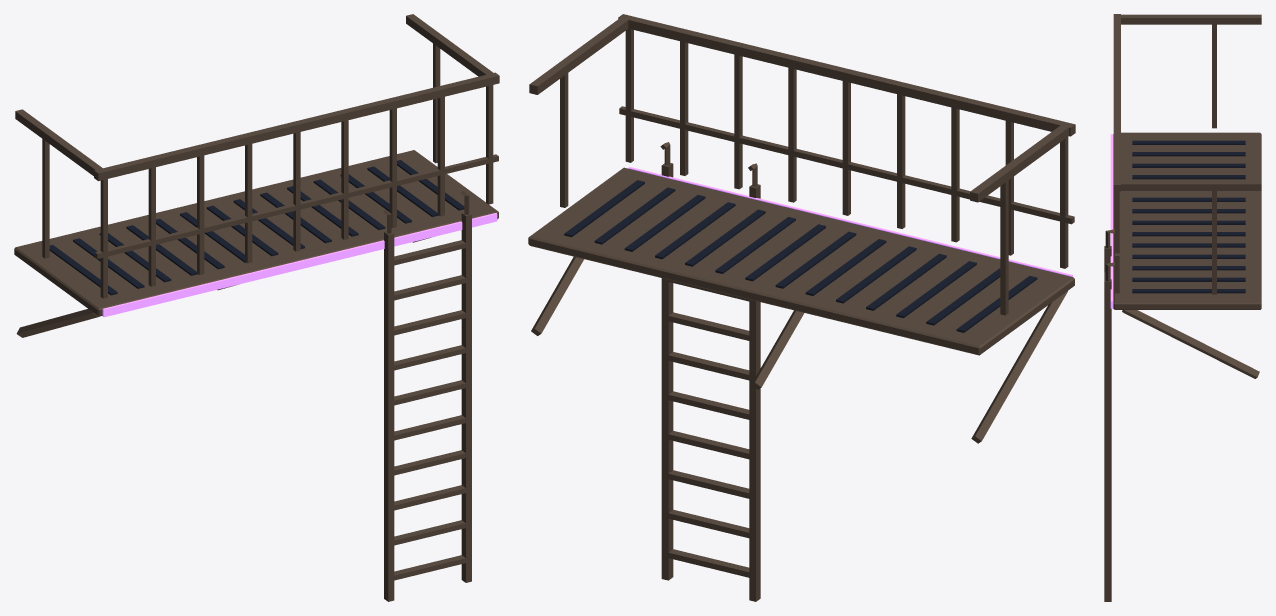
Rendered from city_fire_escape.glb.
The picture shows the model from 3 angles, left to right: view 1: azimuth 30°, elevation 25°; view 2: azimuth 150°, elevation 25°; view 3: azimuth 270°, elevation 25°; orthographic projection. The views are drawn at different scales.
Parts seen in each view (by area): view 1: balcony, top_rail, ladder_rail, ladder_rail.001, kick_plate, middle_rail, side_rail, side_rail.001, front_baluster.008, front_baluster.002, front_baluster.003, side_baluster (+18 smaller); view 2: balcony, top_rail, ladder_rail.001, middle_rail, ladder_rail, bracket, side_rail.001, side_rail, kick_plate, side_baluster.001, side_baluster, front_baluster.002 (+30 smaller); view 3: balcony, ladder_rail.001, side_rail, side_rail.001, top_rail, bracket.002, deck_slot, deck_slot.001, deck_slot.002, deck_slot.003, deck_slot.005, deck_slot.006 (+11 smaller).
Boxes of the visible parts, left/top/right/bottom form: balcony: left=14, top=150, right=498, bottom=316; top_rail: left=94, top=72, right=499, bottom=181; ladder_rail: left=384, top=231, right=394, bottom=601; ladder_rail.001: left=461, top=212, right=471, bottom=582; kick_plate: left=102, top=213, right=497, bottom=317; middle_rail: left=95, top=154, right=498, bottom=258; side_rail: left=15, top=109, right=104, bottom=175; side_rail.001: left=406, top=14, right=495, bottom=76; front_baluster.008: left=486, top=85, right=493, bottom=204; front_baluster.002: left=197, top=155, right=204, bottom=274; front_baluster.003: left=245, top=144, right=252, bottom=263; side_baluster: left=42, top=139, right=49, bottom=258; balcony: left=528, top=167, right=1074, bottom=355; top_rail: left=618, top=14, right=1075, bottom=136; ladder_rail.001: left=661, top=163, right=673, bottom=580; middle_rail: left=619, top=106, right=1074, bottom=224; ladder_rail: left=749, top=184, right=760, bottom=601; bracket: left=971, top=291, right=1067, bottom=443; side_rail.001: left=529, top=16, right=630, bottom=94; side_rail: left=970, top=123, right=1070, bottom=202; kick_plate: left=628, top=167, right=1072, bottom=276; side_baluster.001: left=560, top=73, right=568, bottom=207; side_baluster: left=1000, top=180, right=1008, bottom=315; front_baluster.002: left=951, top=107, right=959, bottom=242; balcony: left=1113, top=132, right=1261, bottom=309; ladder_rail.001: left=1104, top=279, right=1111, bottom=601; side_rail: left=1117, top=14, right=1261, bottom=24; side_rail.001: left=1117, top=181, right=1261, bottom=190; top_rail: left=1113, top=14, right=1120, bottom=191; bracket.002: left=1122, top=310, right=1259, bottom=378; deck_slot: left=1132, top=140, right=1245, bottom=144; deck_slot.001: left=1132, top=152, right=1245, bottom=156; deck_slot.002: left=1132, top=163, right=1245, bottom=167; deck_slot.003: left=1132, top=175, right=1245, bottom=179; deck_slot.005: left=1132, top=197, right=1245, bottom=201; deck_slot.006: left=1132, top=209, right=1245, bottom=213.
Size of the model in its own units: 3 by 3.53 by 1.17.
